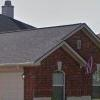Chimney: (1, 1, 19, 19)
